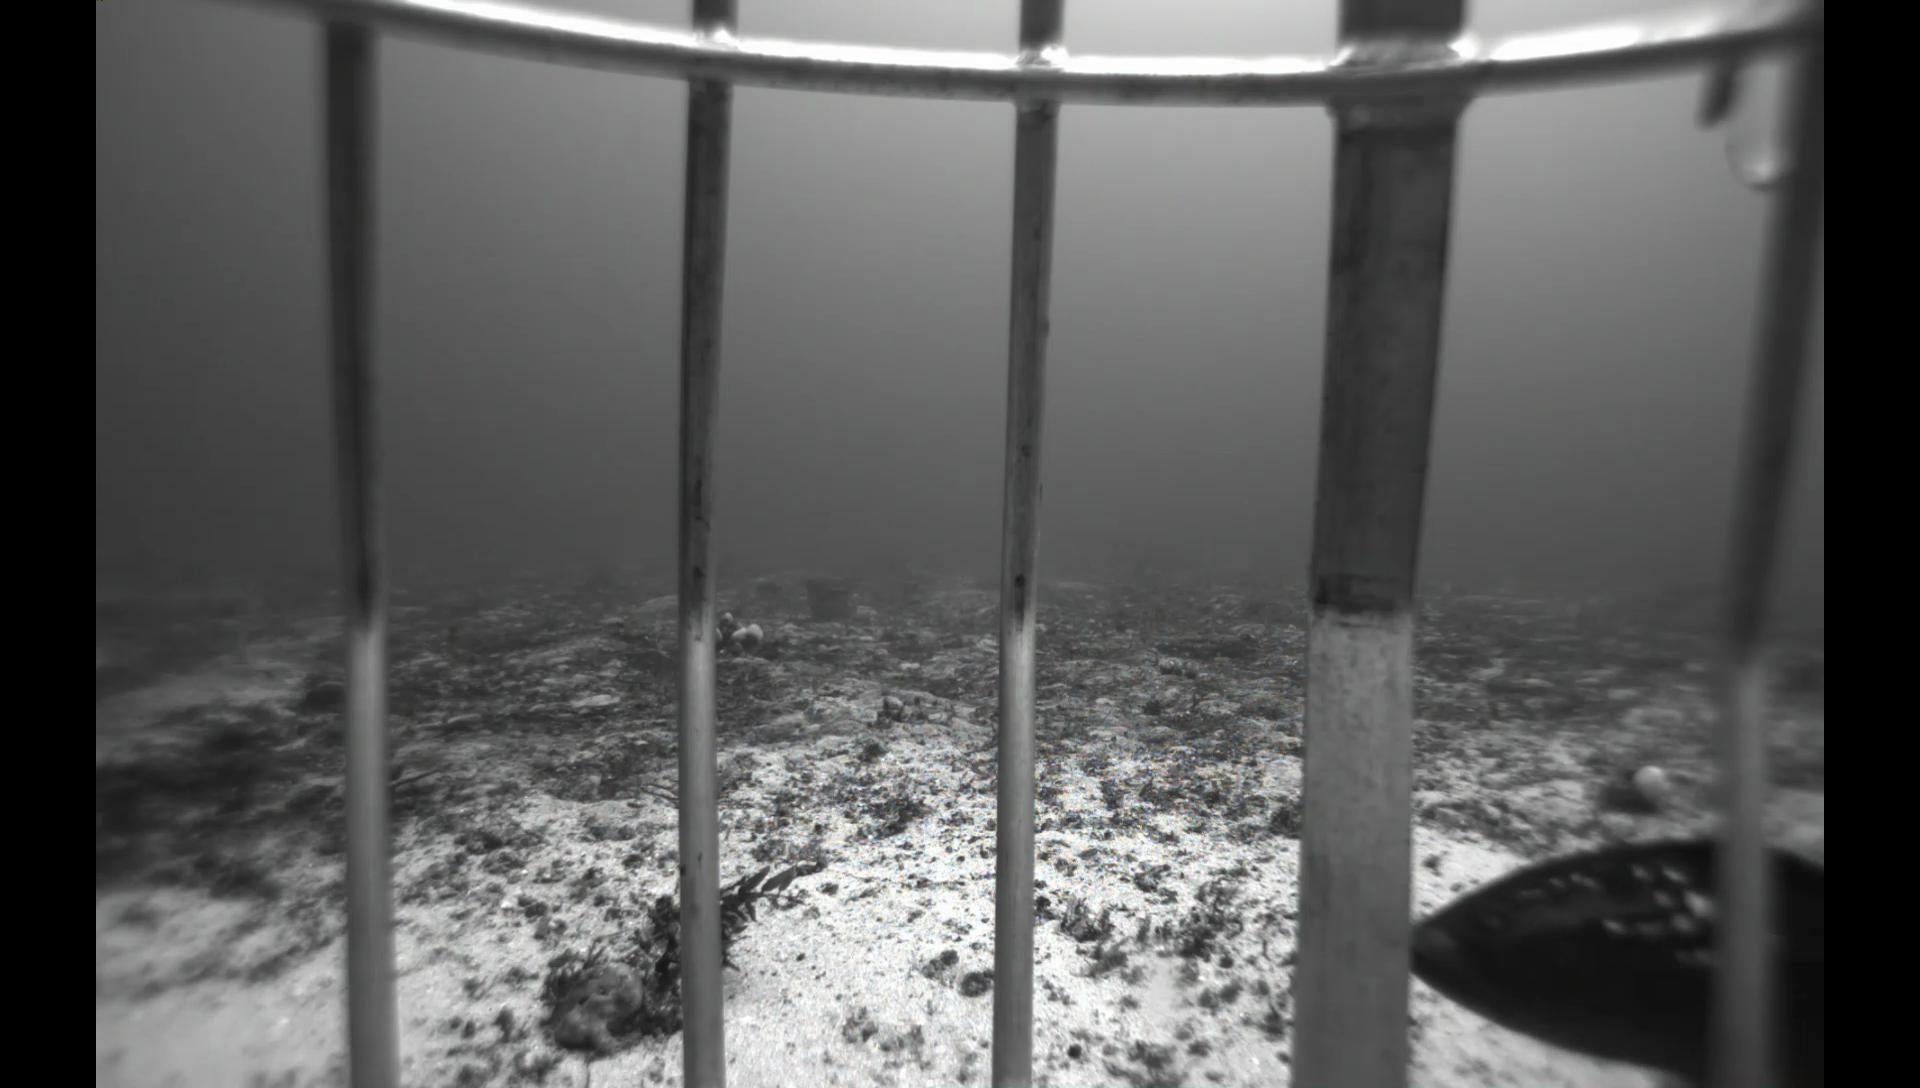CHAETODONOCELLATUS-170260307: (1553, 593, 1590, 625), (1429, 578, 1456, 597)
EPINEPHELUSMORIO-170021211: (1414, 831, 1824, 1088)
PRISTIGENYSALTA-170050401: (295, 675, 347, 717)
